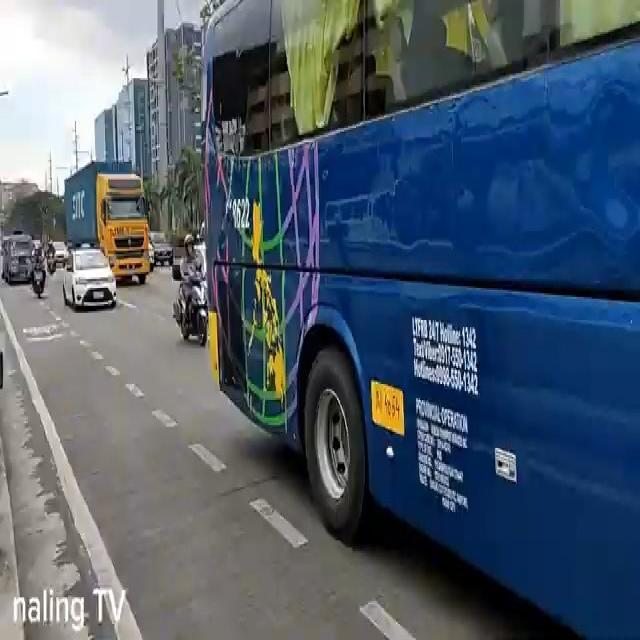bus: (202, 0, 640, 640)
car: (64, 244, 118, 311)
jeepney: (2, 232, 32, 286)
motorcycle: (170, 230, 208, 348), (30, 240, 48, 298), (47, 240, 57, 276)
truck: (64, 156, 154, 290)
